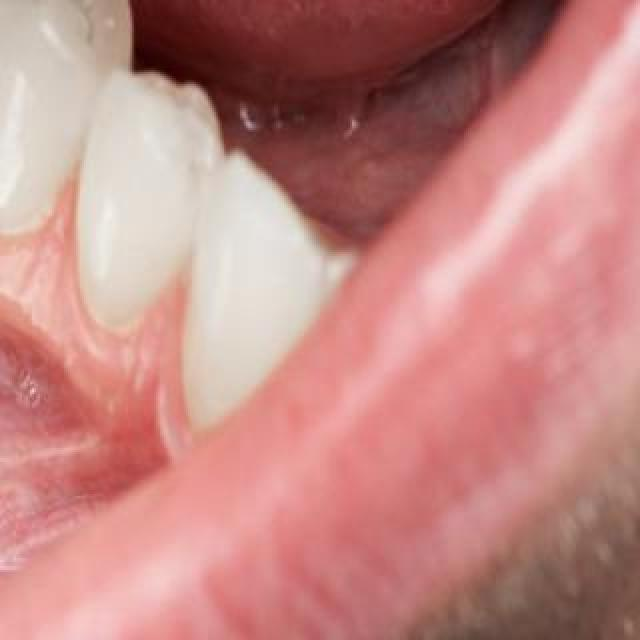missing: (0, 0, 26, 128)
